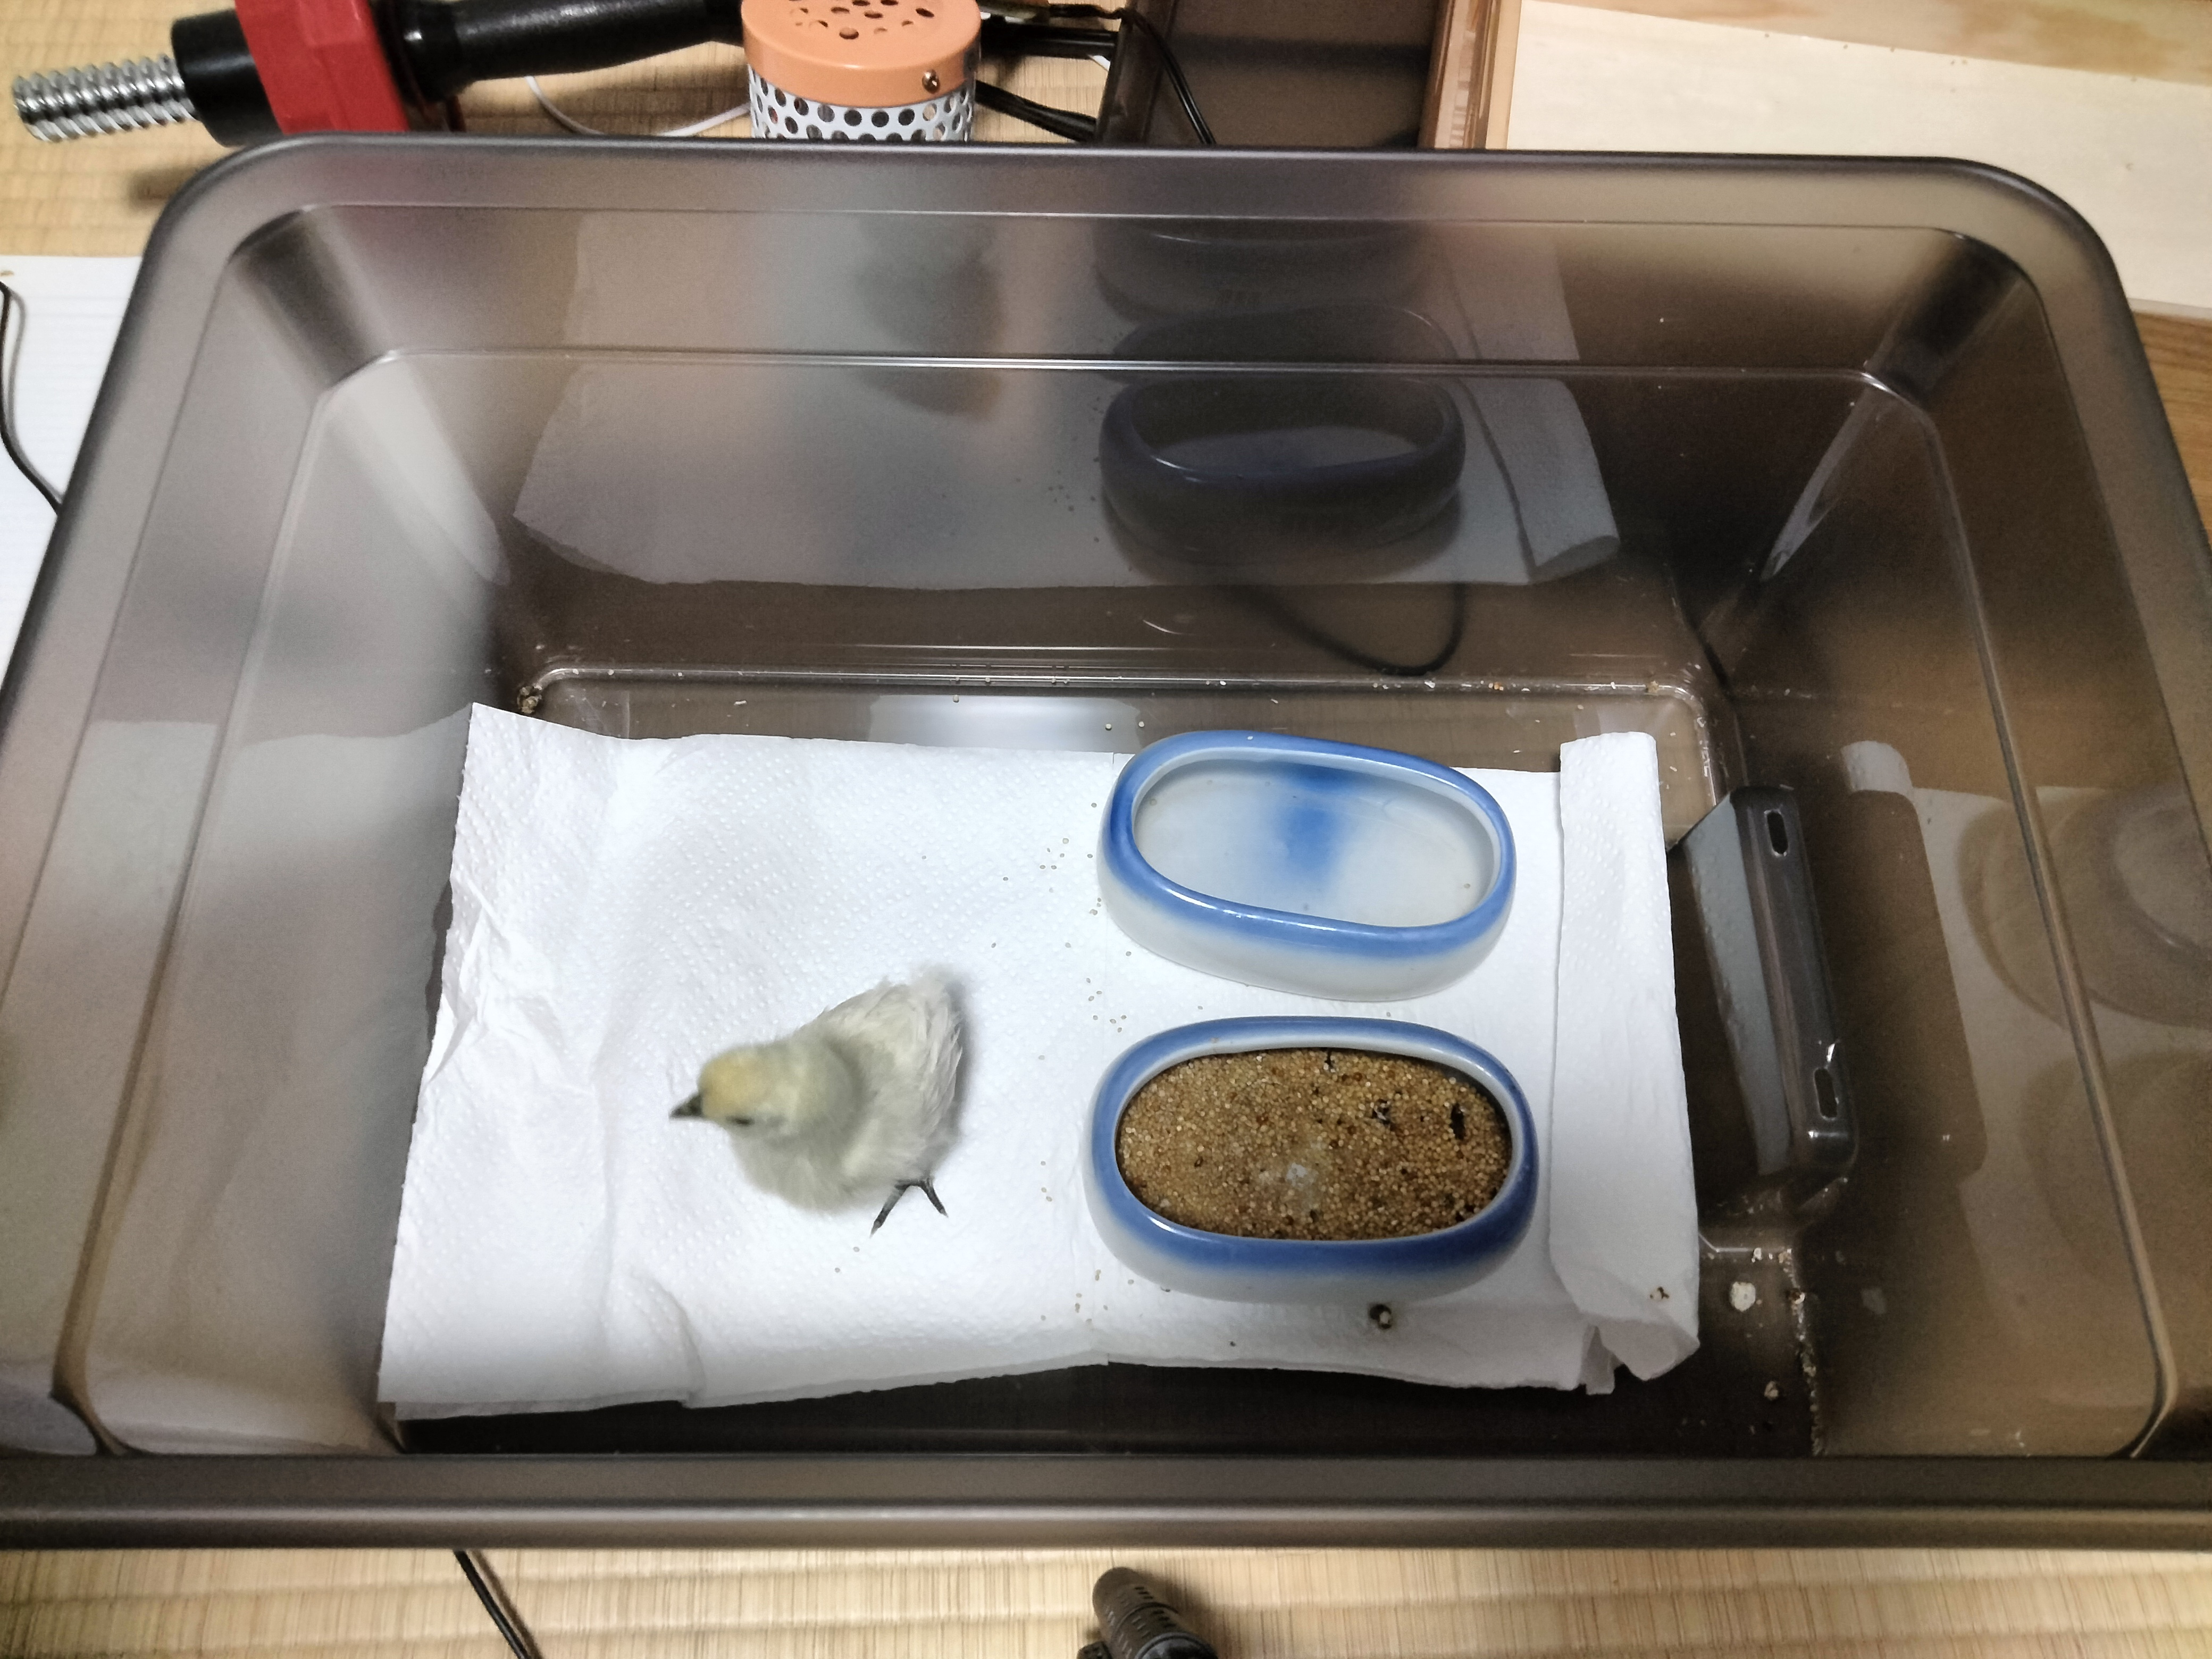shiro: (636, 946, 995, 1249)
